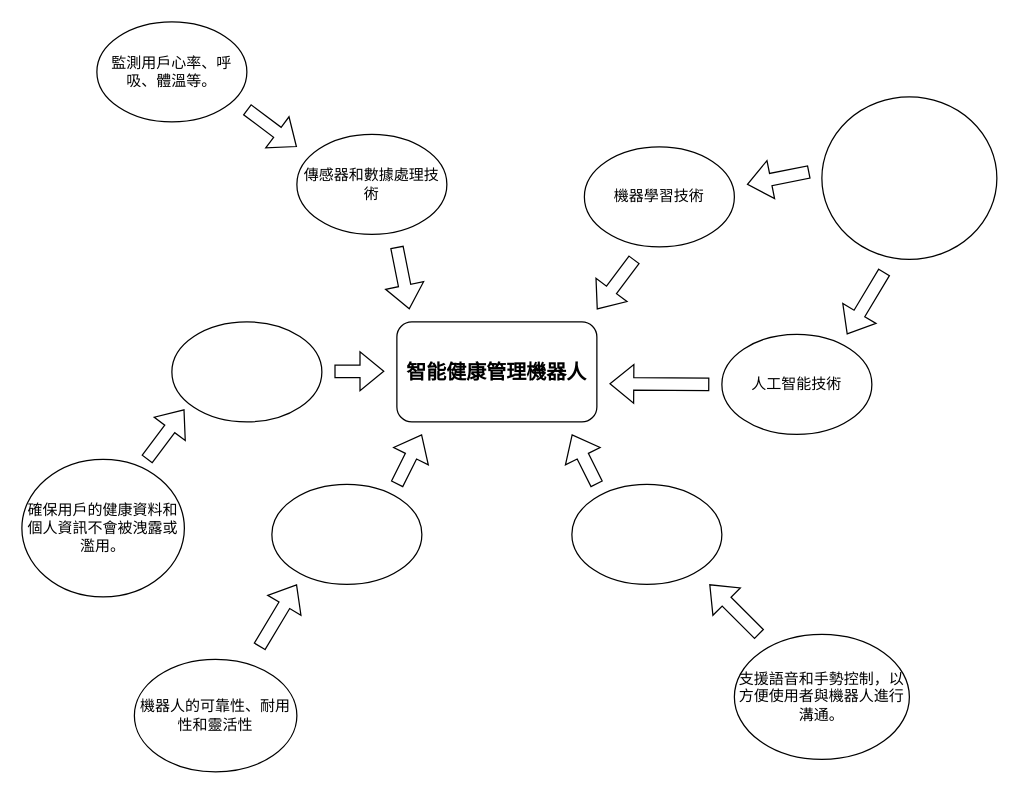
This 1019x794 diagram has some shape labels left out. The shapes that lost their labels are listed below. From the top down, each one's centre as x and y in pixels, then its label:
At [909,177]: "識別用戶的健康問題和疾病風險，並提供個性化的醫療建議和治療方案。".
At [246,371]: "安全和隱私保護設計".
At [346,533]: "物理設計和機械工程".
At [646,533]: "自然語言處理技術".
